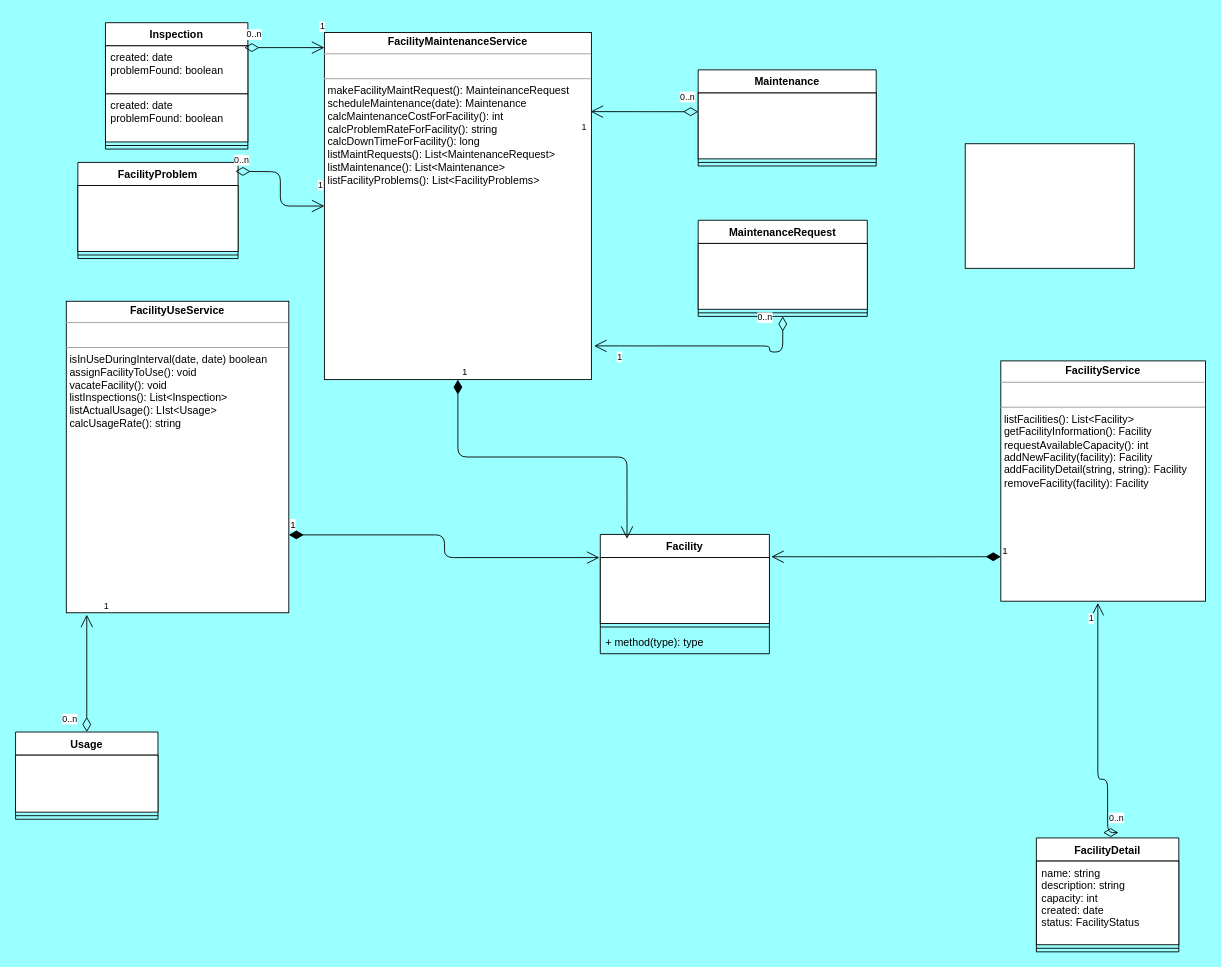
Some shapes in this 1221 by 967 pixel diagram are drawn without their labels. The centre of each missing label's shape, as x and y in pixels:
<<enumeration>> Status IN_USE MAINTENANCE FREE: (x=1049, y=205)
cost: int start: date end: date: (x=786, y=125)
created: Date: (x=782, y=276)
created: date status: FacilityStatus capacity: int: (x=684, y=590)
start: date end: date: (x=86, y=783)
String description created: date solved: boolean: (x=157, y=218)
